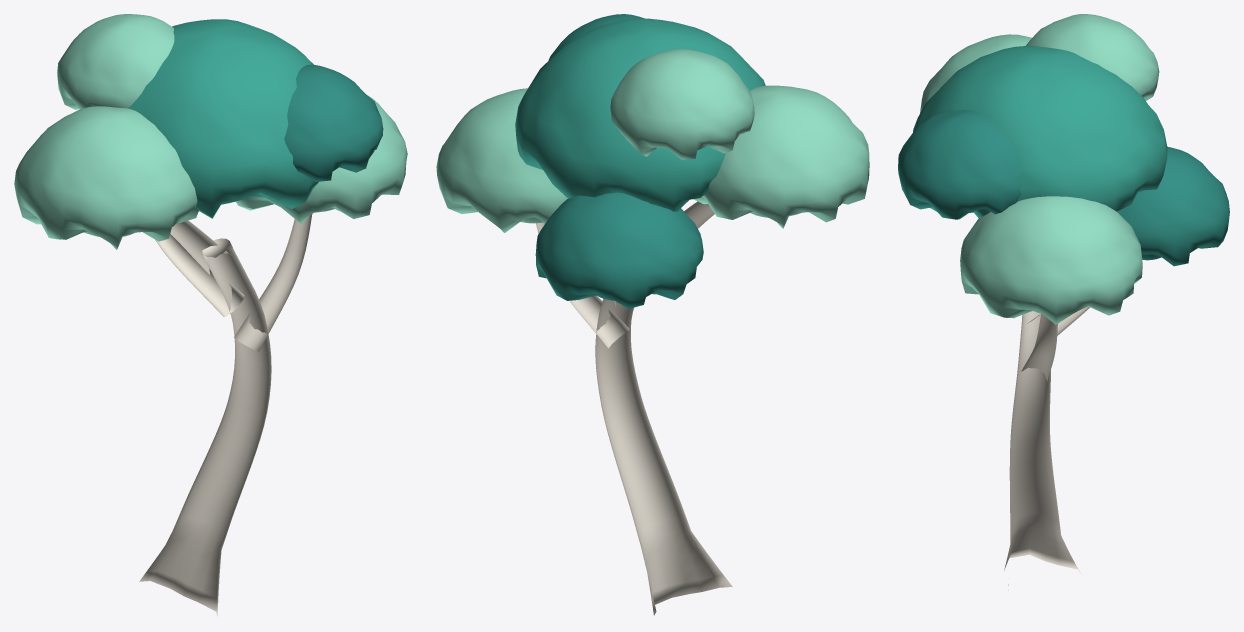
File: GROVE_TREE_V2.glb
3 views of the same model, side by side, from view 1: azimuth 30°, elevation 25°; view 2: azimuth 150°, elevation 25°; view 3: azimuth 270°, elevation 25° (orthographic). The views are drawn at different scales.
Parts seen in each view (by area): view 1: canopy_mint, canopy_fern, trunk, canopy_jade; view 2: canopy_mint, canopy_fern, trunk, canopy_jade; view 3: canopy_mint, canopy_fern, canopy_jade, trunk.
Part boxes in pixels (x1,y1,x2,y2): canopy_mint: [14, 14, 407, 249]; canopy_fern: [127, 19, 318, 218]; trunk: [139, 214, 312, 617]; canopy_jade: [284, 64, 383, 181]; canopy_mint: [436, 49, 869, 232]; canopy_fern: [515, 18, 765, 211]; trunk: [536, 201, 732, 615]; canopy_jade: [535, 14, 703, 309]; canopy_mint: [920, 14, 1159, 324]; canopy_fern: [913, 45, 1167, 218]; canopy_jade: [898, 109, 1229, 266]; trunk: [1004, 306, 1089, 590].
Size of the model in its own units: 20.07 by 28.91 by 15.25.
